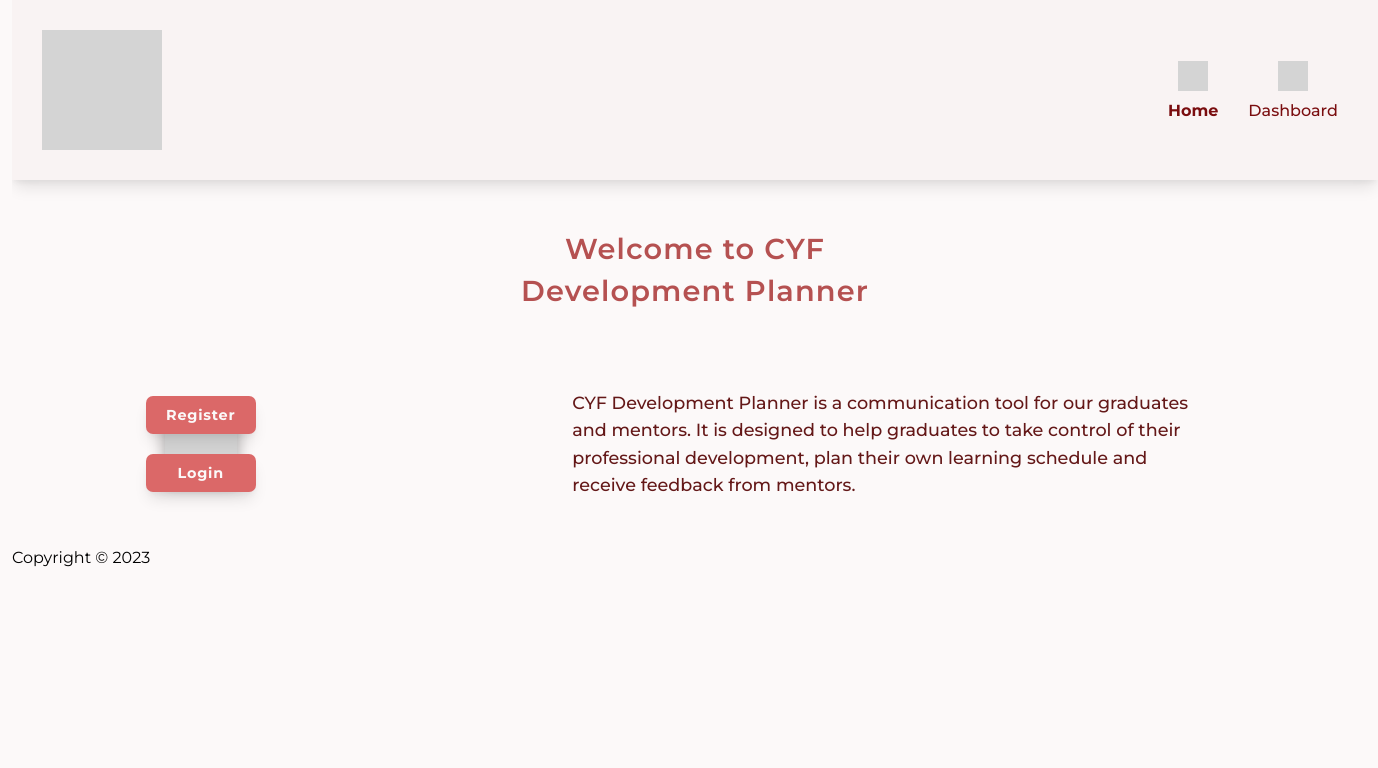
App Routes › should show the heading 'Sign Up' when the sign up button is clicked.
Click the button "Register": (201, 415) [146, 396, 256, 434]
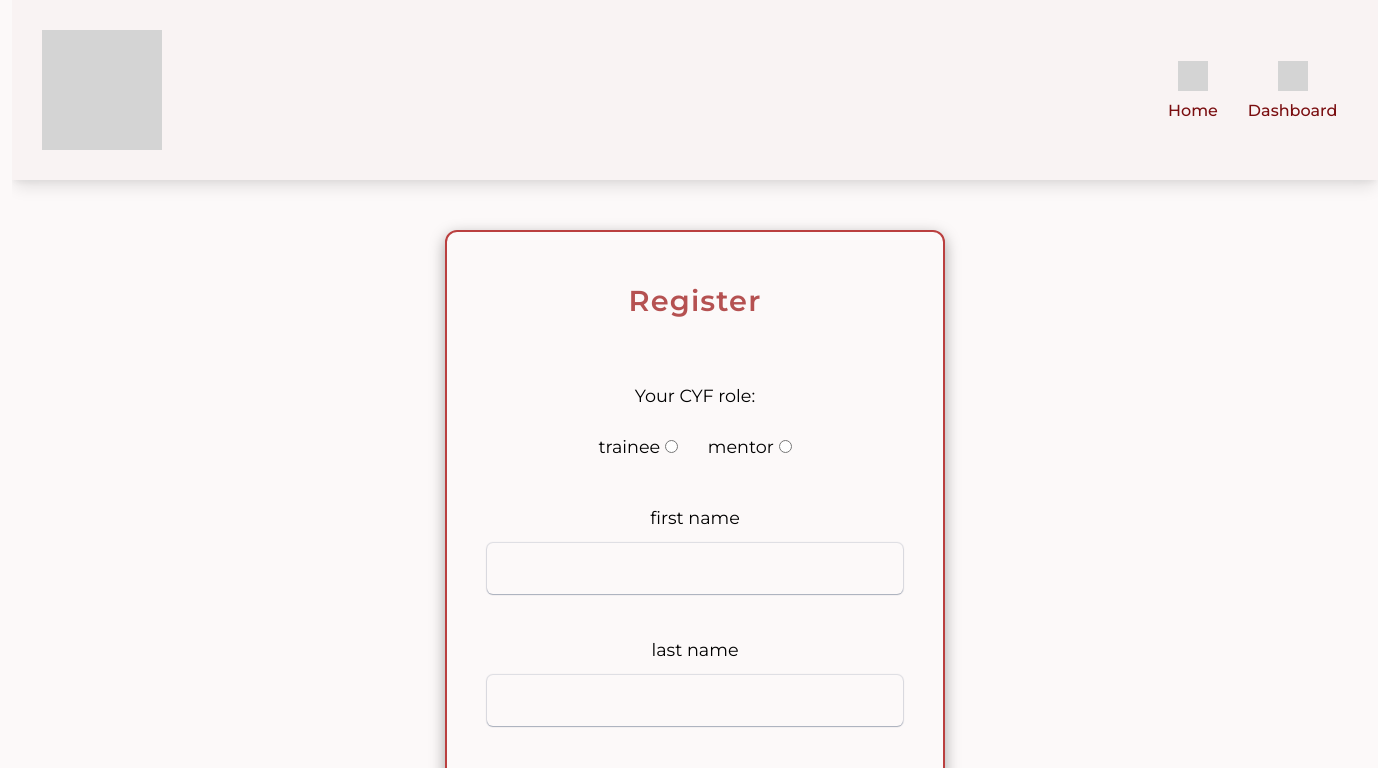
expect the heading reads "Register": met, box [629, 283, 761, 318]
